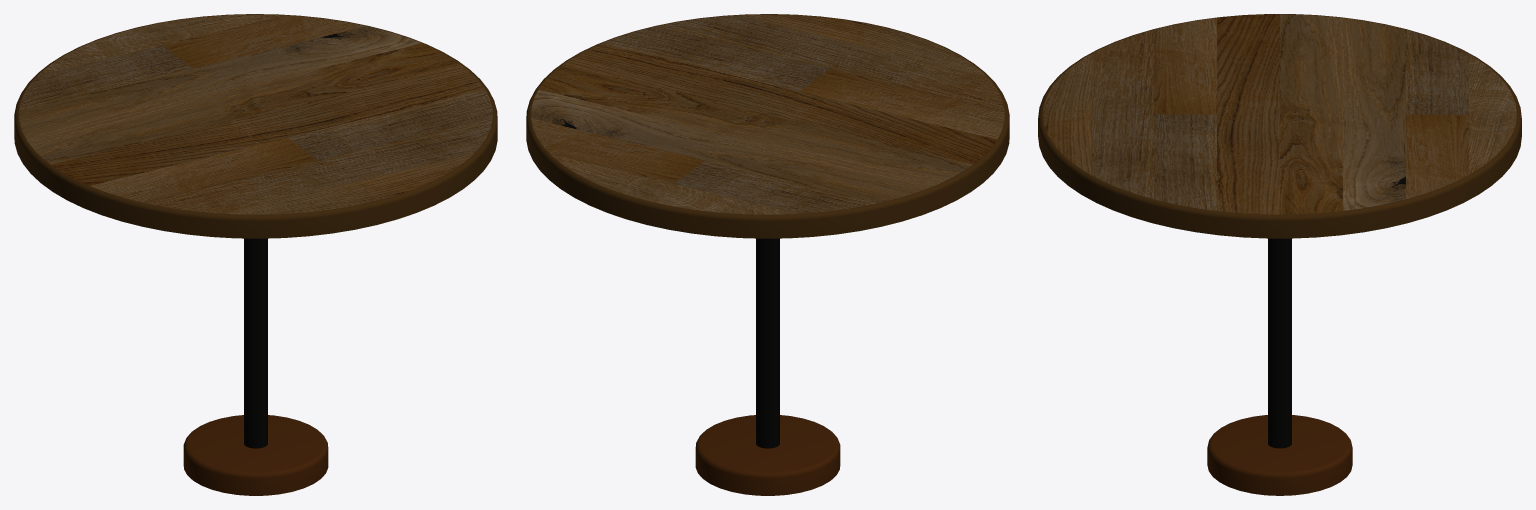
Rendered from Table2.fbx.
The picture shows the model from 3 angles, left to right: view 1: azimuth 30°, elevation 25°; view 2: azimuth 150°, elevation 25°; view 3: azimuth 270°, elevation 25°; orthographic projection.
Visible parts, largest first — view 1: TableTop, TableBottom, TableMiddle; view 2: TableTop, TableBottom, TableMiddle; view 3: TableTop, TableBottom, TableMiddle.
Part boxes in pixels (x1,y1,x2,y2): TableTop: (14,14,497,238); TableBottom: (183,415,328,495); TableMiddle: (244,238,267,448); TableTop: (526,14,1009,238); TableBottom: (695,415,840,495); TableMiddle: (756,238,779,448); TableTop: (1038,14,1521,238); TableBottom: (1207,415,1352,495); TableMiddle: (1268,238,1291,448).
Size of the model in its own units: 2 by 1.6 by 2.
